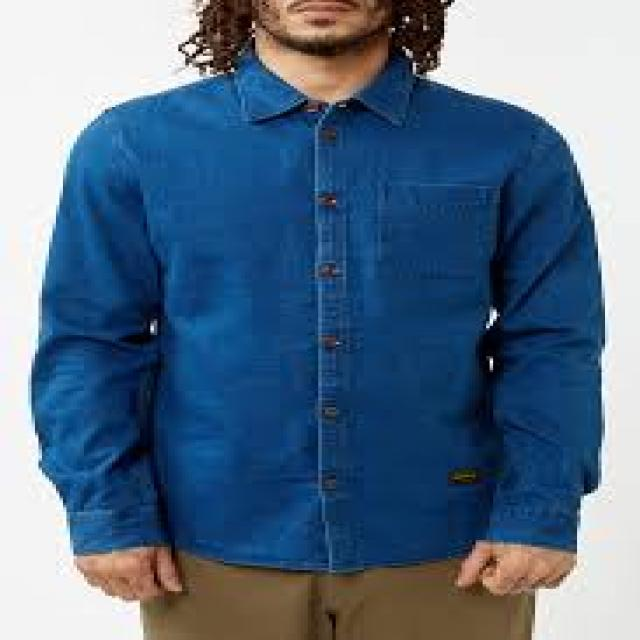plain: (52, 76, 592, 558)
